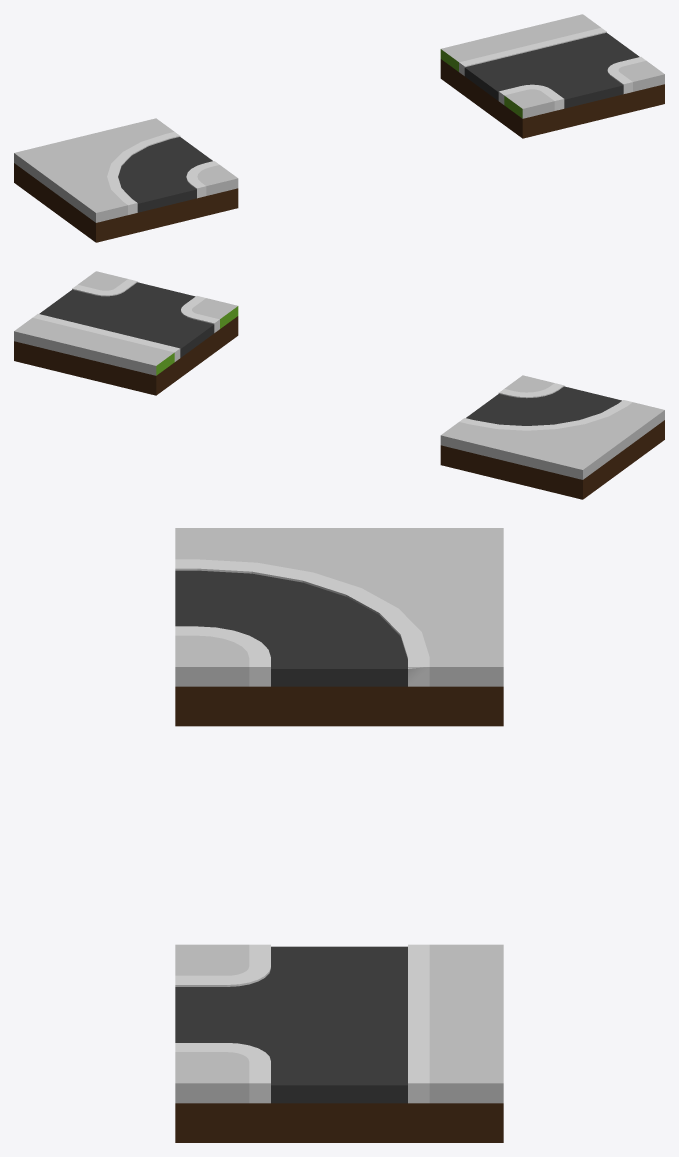
File: Duong (1).fbx
The picture shows the model from 3 angles, top to bottom: view 1: azimuth 30°, elevation 25°; view 2: azimuth 150°, elevation 25°; view 3: azimuth 270°, elevation 25°; orthographic projection. The views are drawn at different scales.
Visible parts, largest first — view 1: tile_mainroad_intersection_t, tile_mainroad_curve; view 2: tile_mainroad_curve, tile_mainroad_intersection_t; view 3: tile_mainroad_curve, tile_mainroad_intersection_t.
Boxes of the visible parts, x1,y1,x2,y2 form: tile_mainroad_intersection_t: (440,14,664,138); tile_mainroad_curve: (14,118,238,242); tile_mainroad_curve: (440,375,664,499); tile_mainroad_intersection_t: (14,271,238,395); tile_mainroad_curve: (175,528,503,726); tile_mainroad_intersection_t: (175,944,503,1142).
Bounding box in the file's own units: 2400 × 120 × 600.
